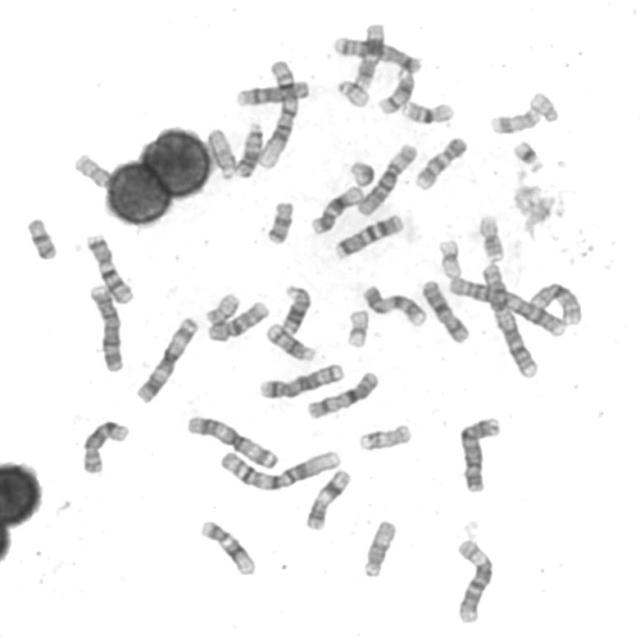A1: (216, 445, 344, 492), (254, 55, 301, 172)
A2: (445, 273, 569, 338), (478, 259, 541, 379)
A3: (132, 313, 200, 405), (183, 412, 282, 471)
B4: (456, 413, 504, 494), (86, 281, 126, 374)
B5: (328, 32, 424, 74), (256, 360, 346, 400)
C10: (203, 297, 270, 343), (527, 279, 585, 327)
C11: (302, 466, 353, 532), (349, 25, 388, 91)
C12: (197, 516, 257, 576), (308, 182, 366, 236)
C6: (354, 140, 420, 217), (452, 535, 496, 626)
C7: (82, 230, 135, 306), (331, 210, 406, 260)
C8: (78, 417, 131, 476), (232, 77, 313, 108)
C9: (412, 133, 469, 192), (359, 281, 429, 327)
D13: (232, 117, 265, 179), (278, 281, 313, 337)
D14: (262, 318, 318, 363), (374, 62, 417, 113)
D15: (359, 516, 398, 580), (204, 124, 238, 180)
E16: (398, 96, 458, 126), (476, 216, 511, 266)
E17: (356, 420, 414, 453), (487, 103, 543, 135)
E18: (23, 214, 59, 261), (263, 196, 296, 246)
F19: (434, 235, 464, 280), (343, 305, 371, 349)
F20: (202, 289, 242, 326), (72, 155, 114, 190)
G21: (509, 136, 546, 174), (347, 157, 376, 187)
G22: (526, 88, 561, 123), (334, 77, 371, 108)
X: (303, 368, 381, 420), (418, 276, 471, 346)
